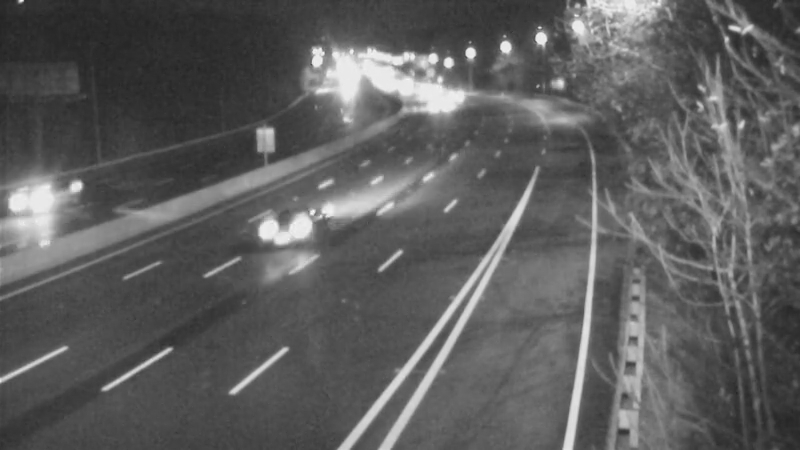vehicle: (235, 188, 315, 268), (1, 155, 79, 235), (404, 64, 454, 114), (428, 69, 478, 119), (413, 79, 463, 129), (400, 73, 450, 123)
